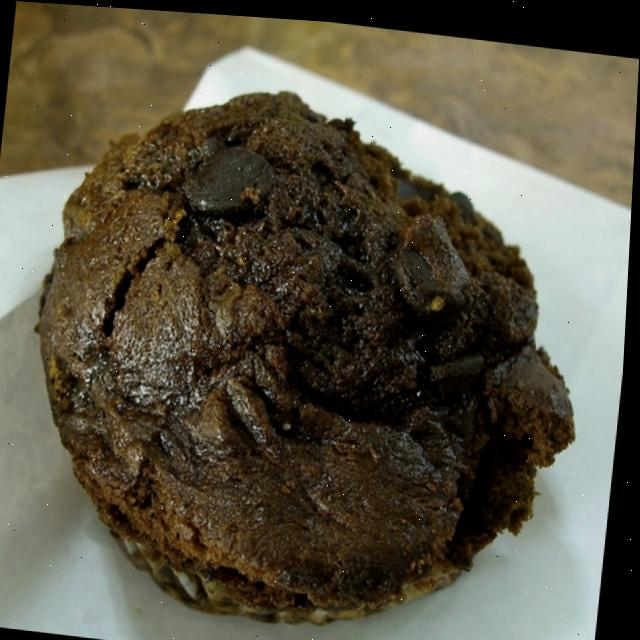炸货点心: (0, 40, 617, 640)
面包点心: (0, 40, 617, 640)
